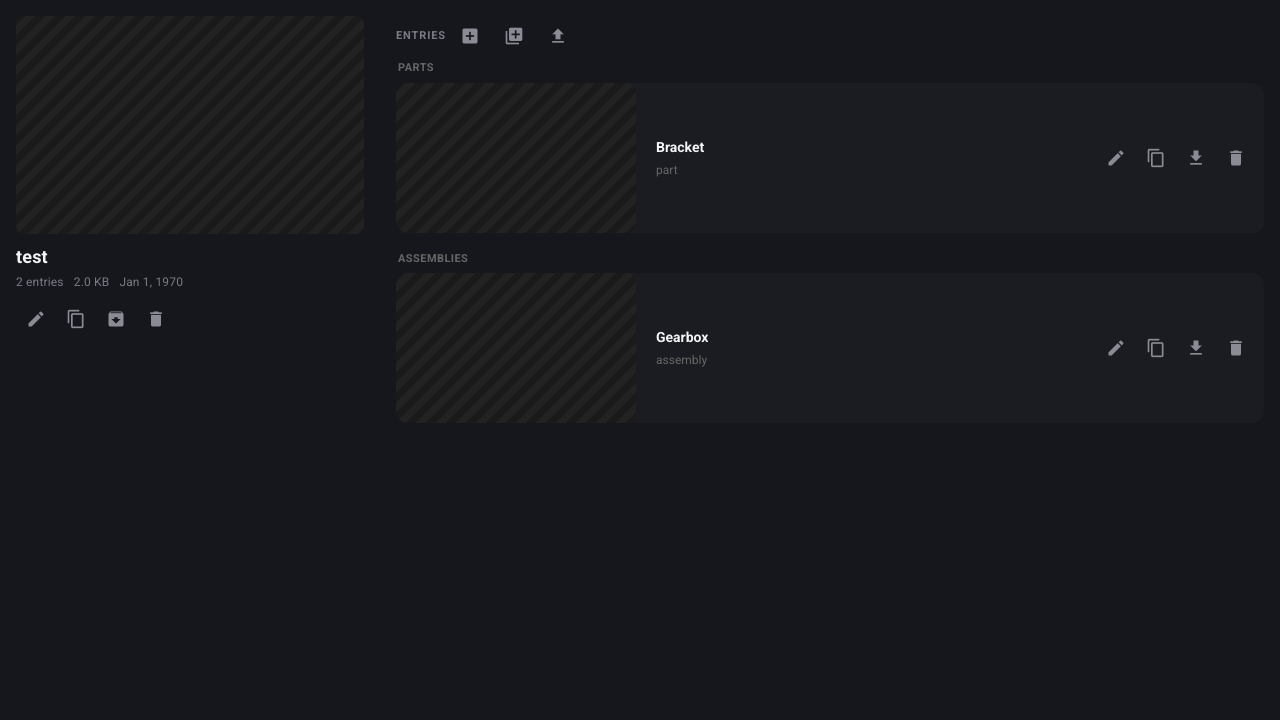
Test: WorkspaceView identity-card verbs › renames the workspace from the identity card
This screenshot has width=1280, height=720.
Expected: the text "Bracket" is shown, top-left (656, 136), bottom-right (704, 158)
Click the button named "Rename workspace" at coordinates (36, 319), box top-left (16, 299), bottom-right (56, 339)
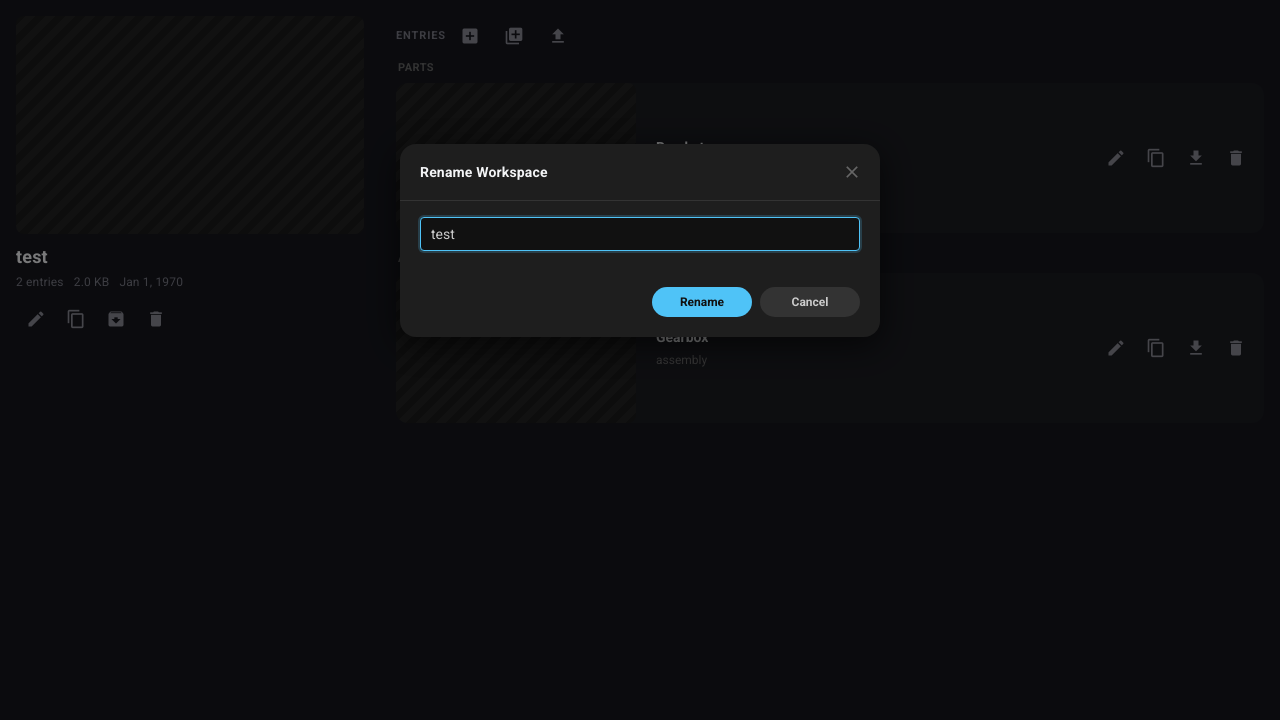
Result: the field named "Workspace name" holds "test"
Replace the text in the field named "Workspace name" with "Renamed" at coordinates (640, 234), box top-left (420, 217), bottom-right (860, 251)
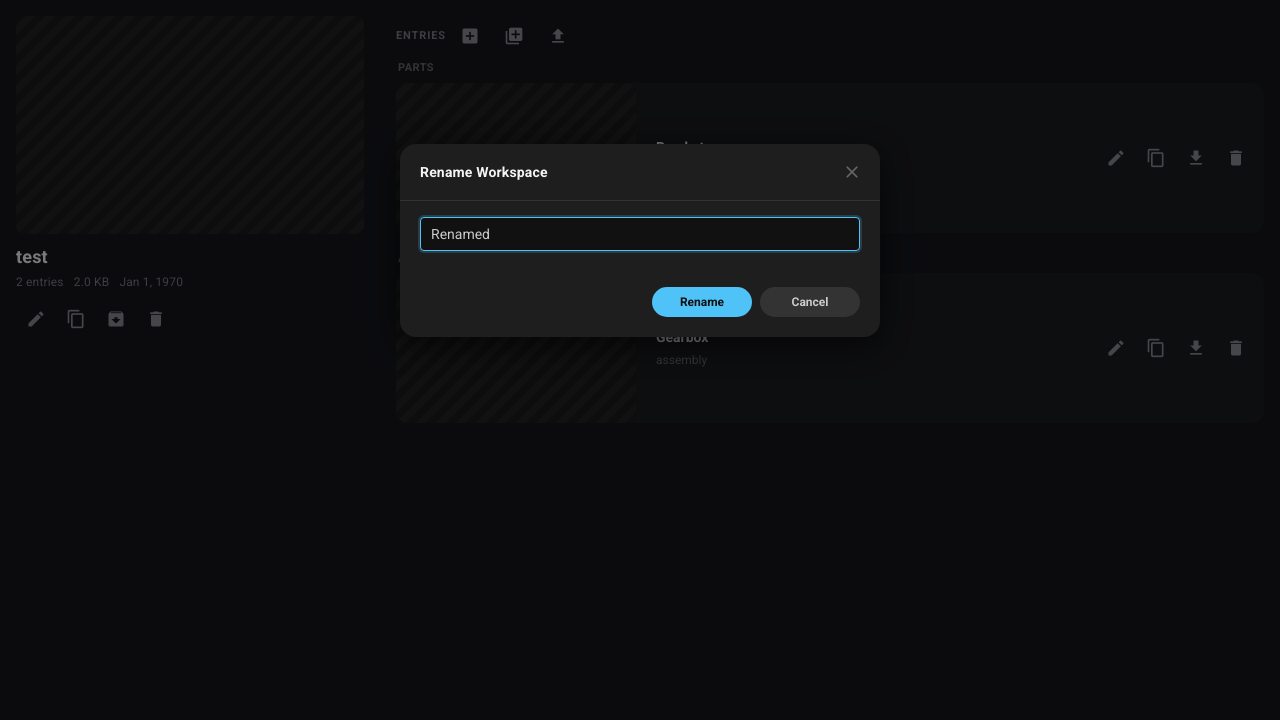
Click the button "Rename" at coordinates (702, 302), box top-left (652, 287), bottom-right (752, 317)
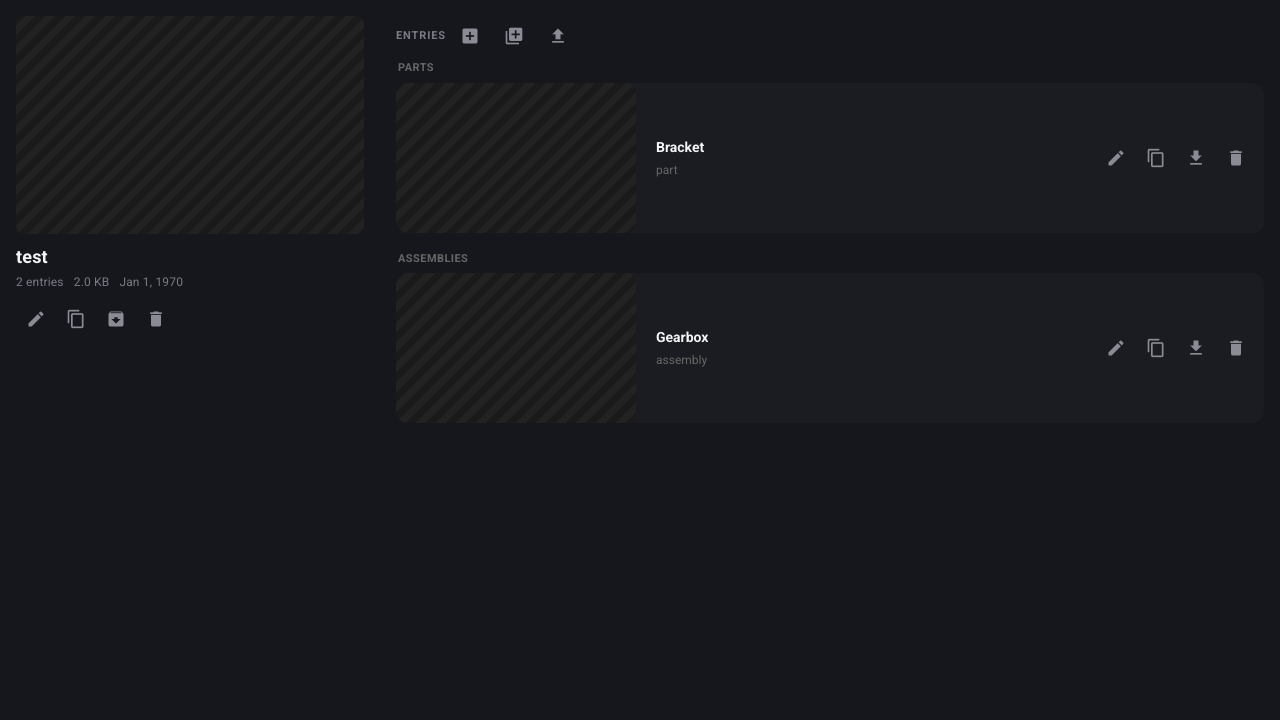
Result: the heading "Rename Workspace" is gone
